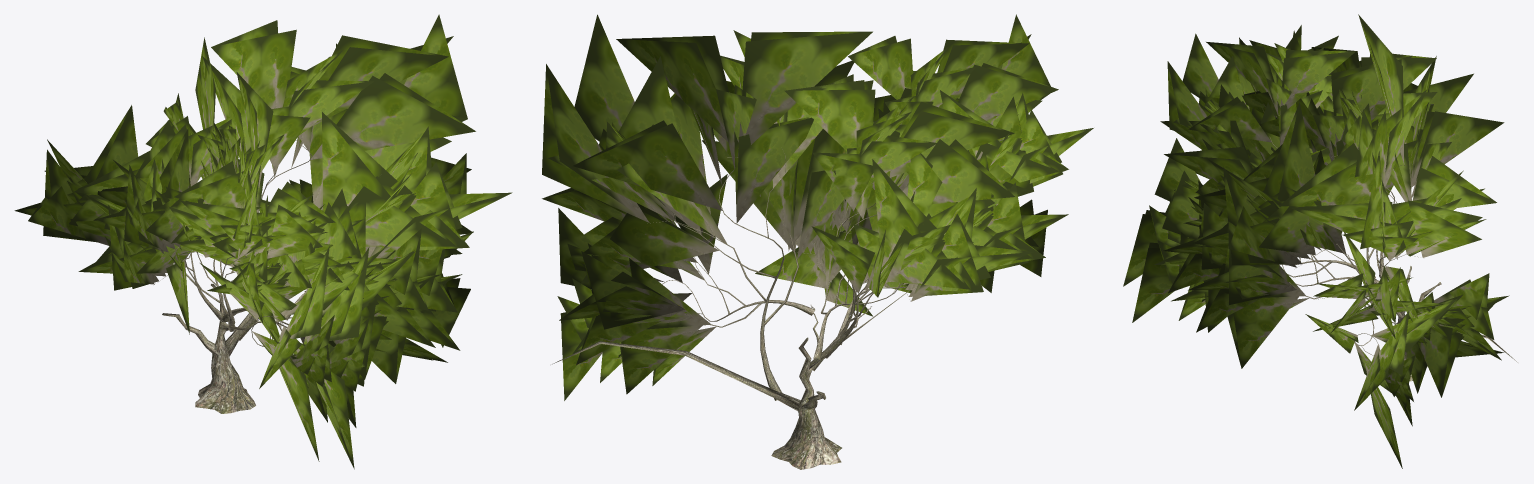
The model's file is bush1.obj.
3 renders of one model, left to right at view 1: azimuth 30°, elevation 25°; view 2: azimuth 150°, elevation 25°; view 3: azimuth 270°, elevation 25°, orthographic. The views are drawn at different scales.
Visible parts, largest first — view 1: oak leaf, mossybark03; view 2: oak leaf, mossybark03; view 3: oak leaf, mossybark03.
Boxes of the visible parts, bbox=[...] form: oak leaf: bbox=[14, 14, 512, 469]; mossybark03: bbox=[160, 140, 312, 413]; oak leaf: bbox=[542, 14, 1093, 400]; mossybark03: bbox=[552, 149, 910, 469]; oak leaf: bbox=[1123, 14, 1509, 468]; mossybark03: bbox=[1270, 115, 1517, 381].
Bounding box in the file's own units: 347 × 283 × 297.
Materials: 2 (2 with a texture image).
